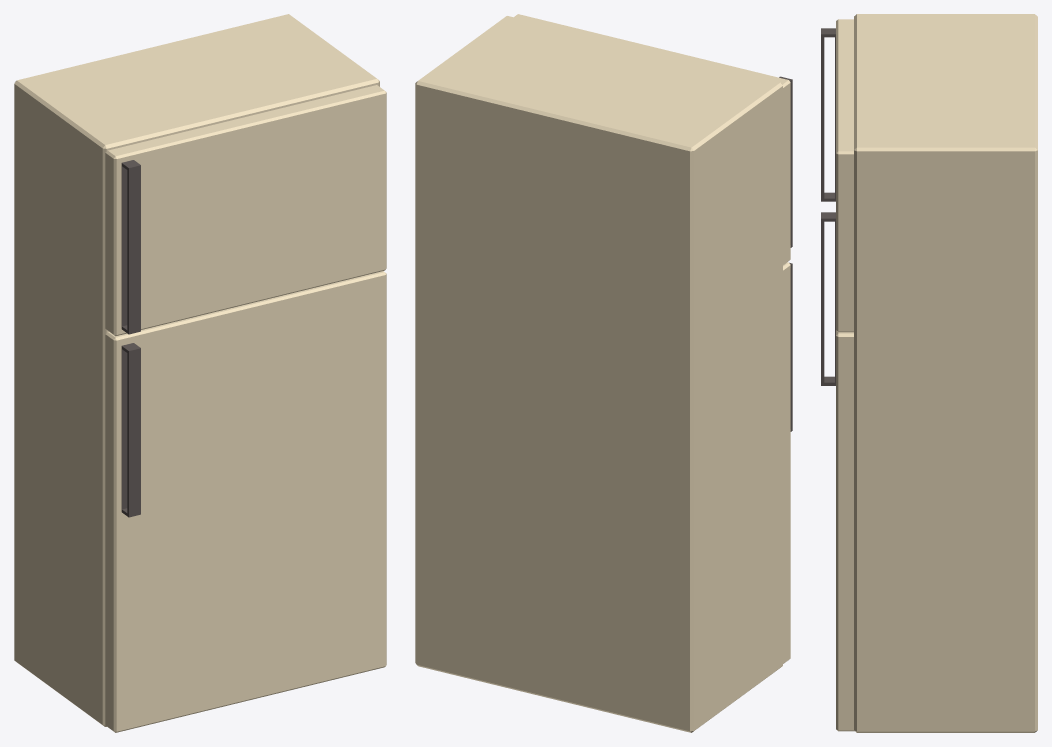
Rendered from TopFridge1.glb.
The picture shows the model from 3 angles, left to right: view 1: azimuth 30°, elevation 25°; view 2: azimuth 150°, elevation 25°; view 3: azimuth 270°, elevation 25°; orthographic projection.
Parts seen in each view (by area): view 1: DownDoor1_TopFridge1, TopFridge1, UpperDoor1_TopFridge1; view 2: TopFridge1, DownDoor1_TopFridge1, UpperDoor1_TopFridge1; view 3: TopFridge1, DownDoor1_TopFridge1, UpperDoor1_TopFridge1.
Part boxes in pixels (x1,y1,x2,y2): DownDoor1_TopFridge1: (105,271,386,732); TopFridge1: (14,14,379,726); UpperDoor1_TopFridge1: (105,85,386,336); TopFridge1: (415,16,782,732); DownDoor1_TopFridge1: (783,262,792,663); UpperDoor1_TopFridge1: (514,14,792,264); TopFridge1: (854,14,1037,732); DownDoor1_TopFridge1: (821,212,854,731); UpperDoor1_TopFridge1: (821,19,853,332).
Size of the model in its own units: 1.07 by 2.15 by 0.7218.
